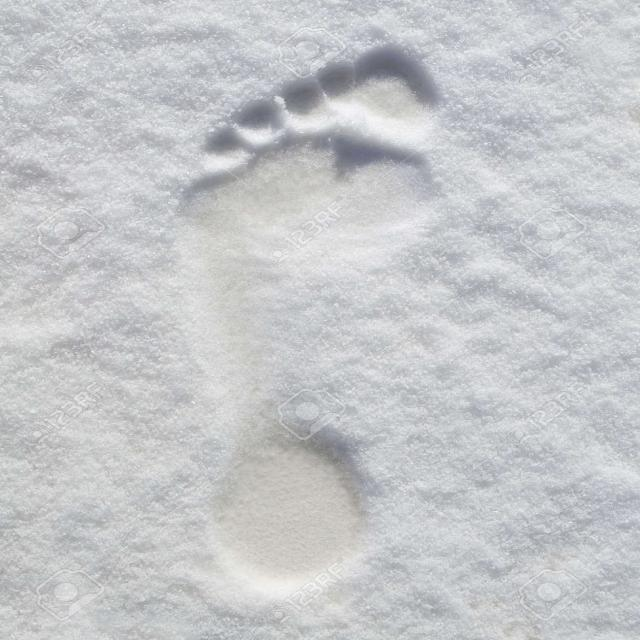human_footprint: (134, 26, 526, 613)
